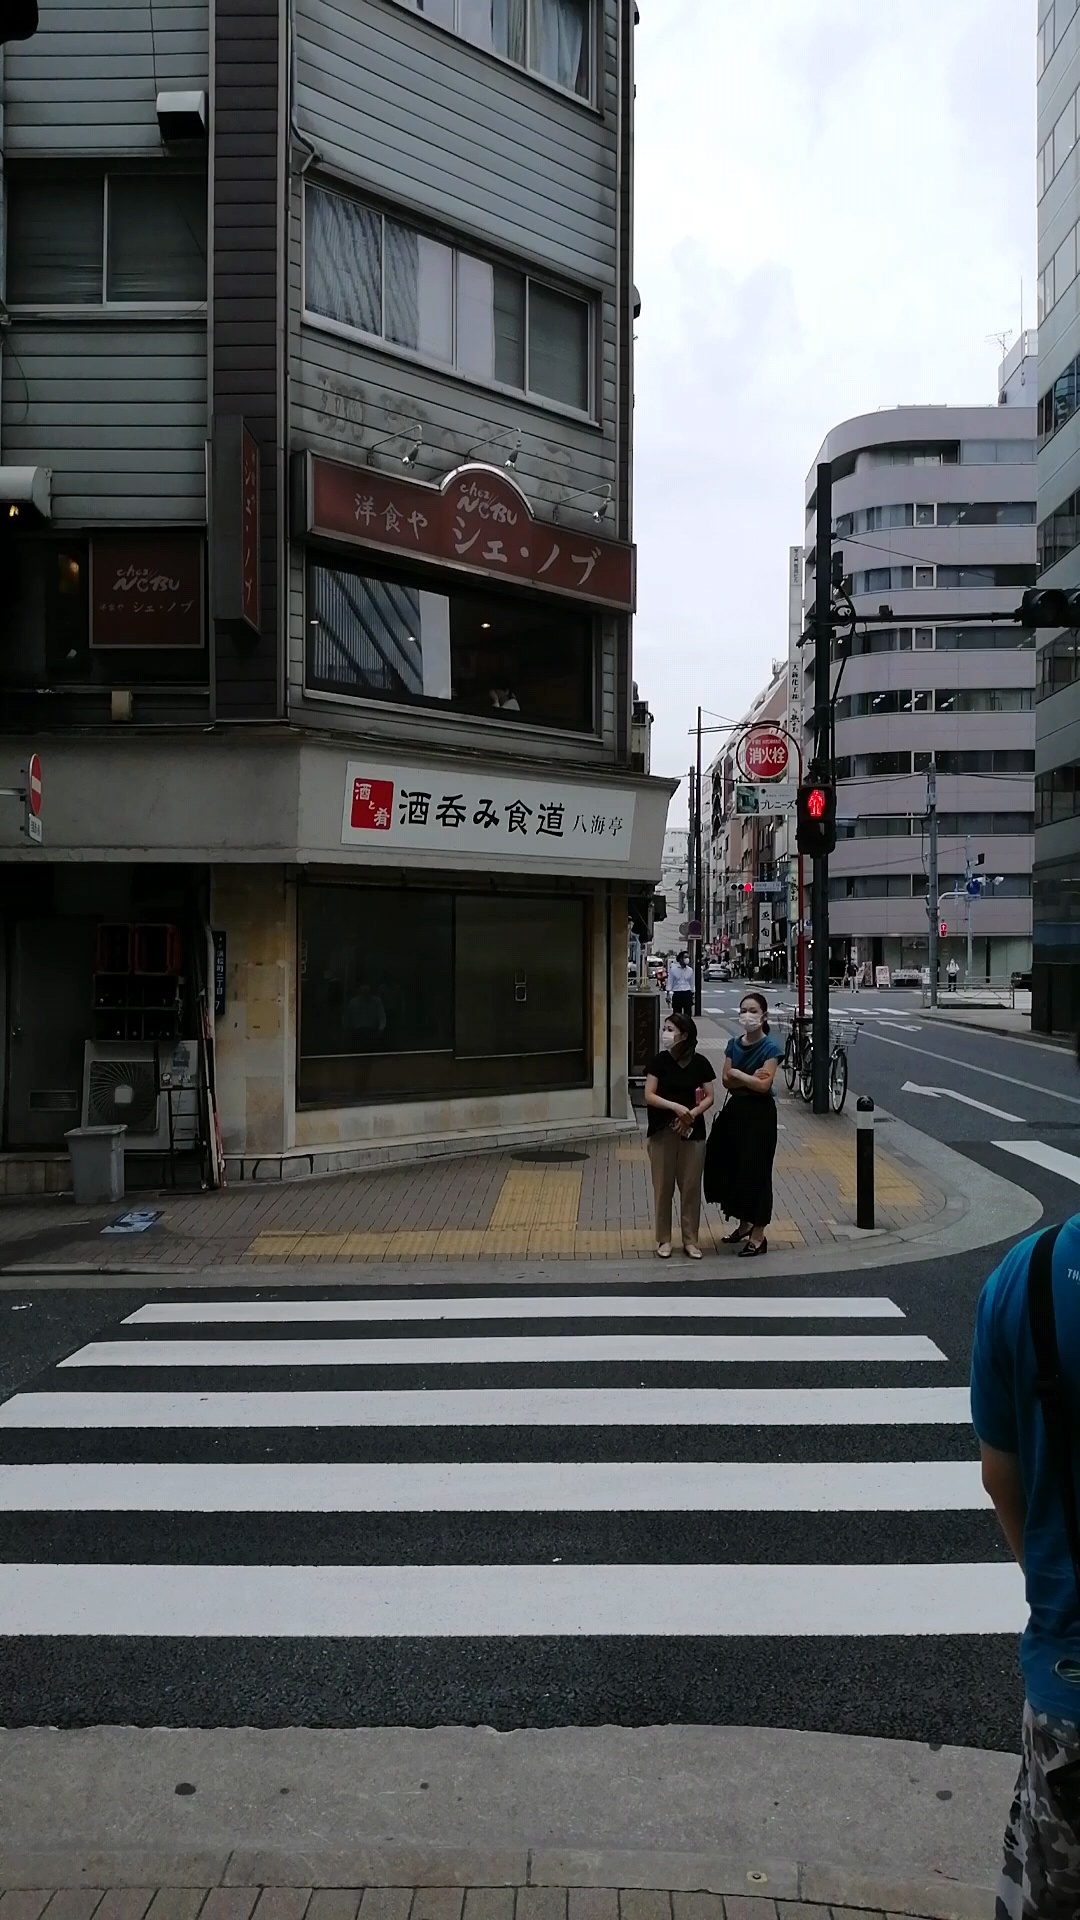red: (796, 781, 836, 852)
